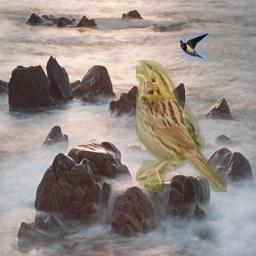Sparrow: (136, 60, 227, 192)
Swallow: (180, 33, 209, 62)
